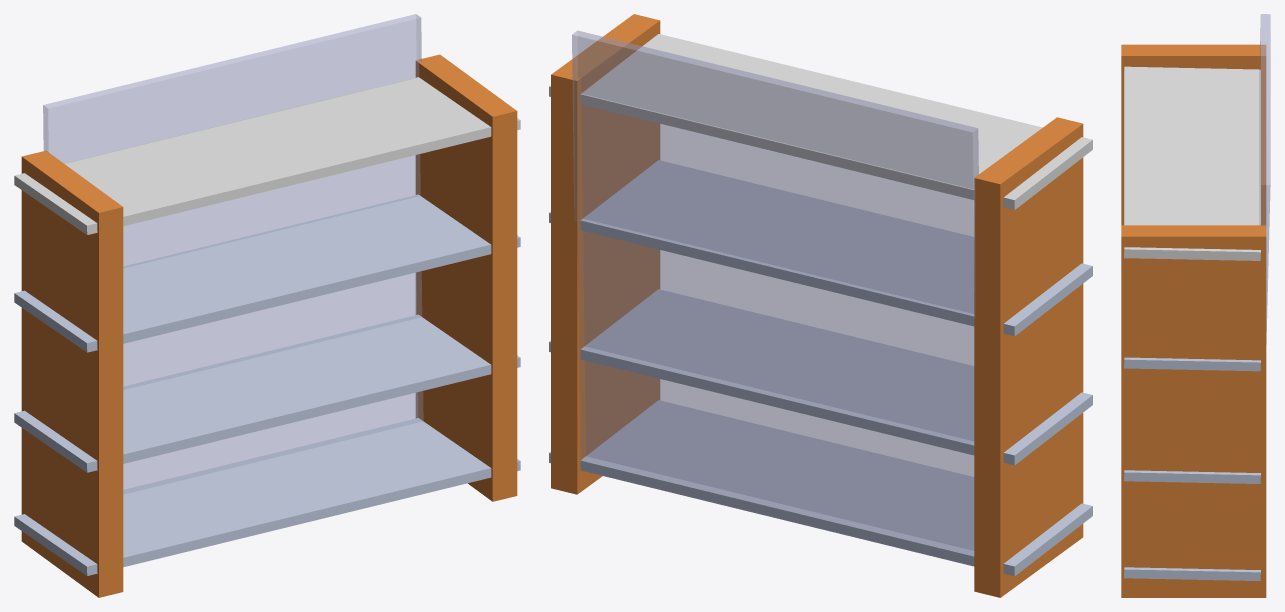
The model's file is show_cabinet_oneside_glass.glb.
3 renders of one model, left to right at view 1: azimuth 30°, elevation 25°; view 2: azimuth 150°, elevation 25°; view 3: azimuth 270°, elevation 25°, orthographic. The views are drawn at different scales.
Visible parts, largest first — view 1: Cube.043, Cube.048, Cube.047, Cube.049, Cube.046, Cube.045, Cube.044; view 2: Cube.043, Cube.048, Cube.047, Cube.045, Cube.044, Cube.046, Cube.049; view 3: Cube.049, Cube.047, Cube.048, Cube.043, Cube.044, Cube.045, Cube.046.
Boxes of the visible parts, <box> form: Cube.043: <box>43,14,423,493</box>; Cube.048: <box>21,150,123,597</box>; Cube.047: <box>14,77,520,234</box>; Cube.049: <box>415,54,517,501</box>; Cube.046: <box>14,194,520,352</box>; Cube.045: <box>14,418,520,575</box>; Cube.044: <box>14,314,520,472</box>; Cube.043: <box>572,30,978,565</box>; Cube.048: <box>974,117,1083,597</box>; Cube.047: <box>549,34,1092,209</box>; Cube.045: <box>549,400,1092,576</box>; Cube.044: <box>549,289,1092,465</box>; Cube.046: <box>549,160,1092,336</box>; Cube.049: <box>551,14,660,494</box>; Cube.049: <box>1121,225,1266,597</box>; Cube.047: <box>1124,66,1260,260</box>; Cube.048: <box>1121,44,1266,225</box>; Cube.043: <box>1259,14,1270,343</box>; Cube.044: <box>1124,470,1260,483</box>; Cube.045: <box>1124,567,1260,580</box>; Cube.046: <box>1124,357,1260,371</box>.
Size of the model in its own units: 0.4616 by 0.4369 by 0.1465.
